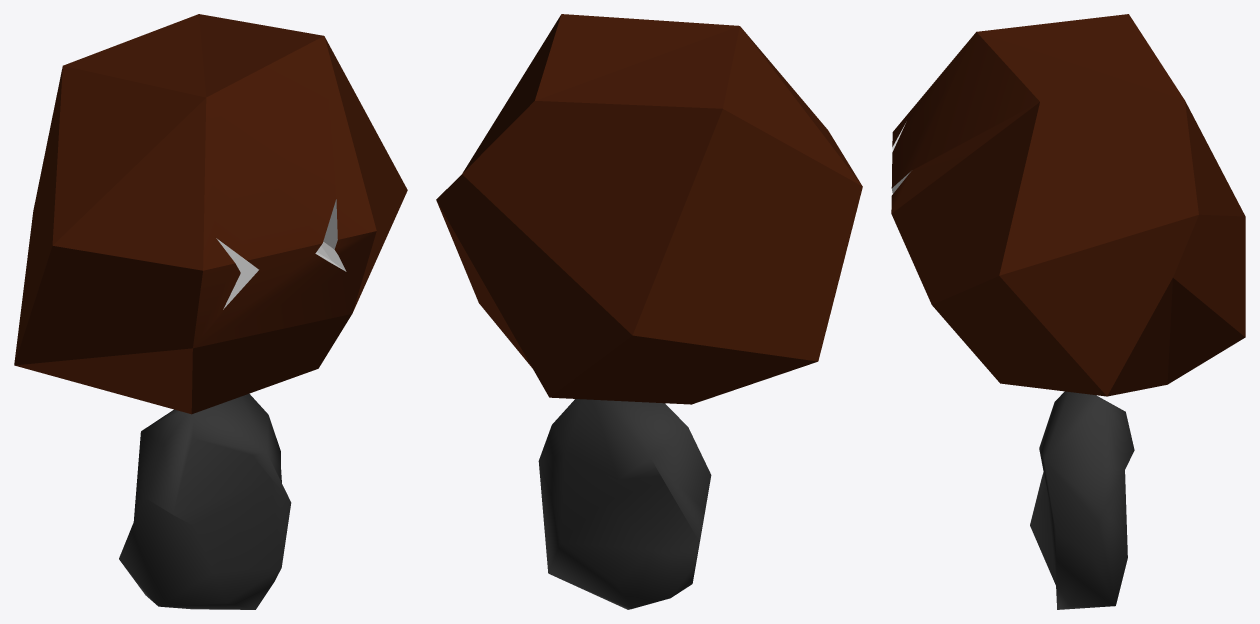
File: Mini boss.fbx
3 renders of one model, left to right at view 1: azimuth 30°, elevation 25°; view 2: azimuth 150°, elevation 25°; view 3: azimuth 270°, elevation 25°, orthographic. The views are drawn at different scales.
Parts seen in each view (by area): view 1: pSphere8, pCube7; view 2: pSphere8, pCube7; view 3: pSphere8, pCube7.
Boxes of the visible parts, bbox=[...] form: pSphere8: bbox=[14, 14, 407, 414]; pCube7: bbox=[119, 393, 291, 609]; pSphere8: bbox=[436, 14, 862, 404]; pCube7: bbox=[538, 399, 711, 609]; pSphere8: bbox=[891, 14, 1245, 396]; pCube7: bbox=[1030, 391, 1134, 609].
Size of the model in its own units: 0.6461 by 0.9963 by 0.5911.
